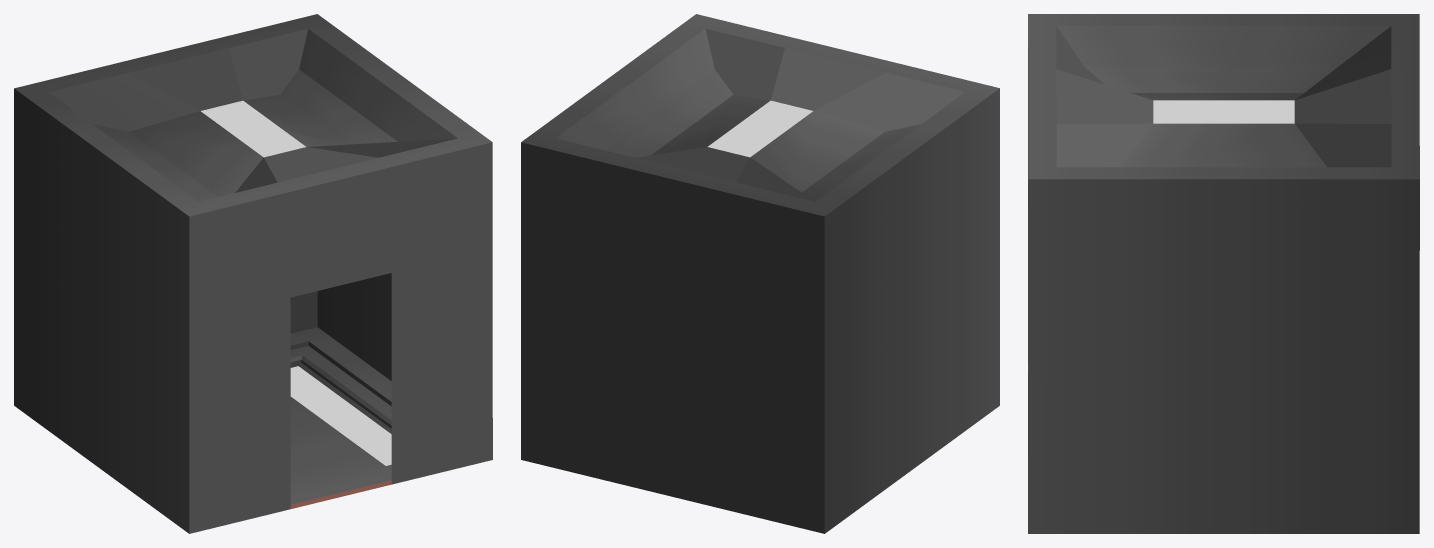
File: room.fbx
The picture shows the model from 3 angles, left to right: view 1: azimuth 30°, elevation 25°; view 2: azimuth 150°, elevation 25°; view 3: azimuth 270°, elevation 25°; orthographic projection. The views are drawn at different scales.
Visible parts, largest first — view 1: room; view 2: room; view 3: room.
Part boxes in pixels (box(x1,y1,x2,y2)): room: box(14, 14, 492, 533); room: box(521, 14, 999, 533); room: box(1028, 14, 1419, 533).
Bounding box in the file's own units: 300 × 308 × 300.
